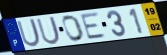1: (129, 8, 144, 35)
3: (106, 9, 127, 38)
E: (80, 11, 108, 41)
O: (62, 15, 85, 43)
U: (15, 17, 42, 48), (35, 15, 61, 46)
